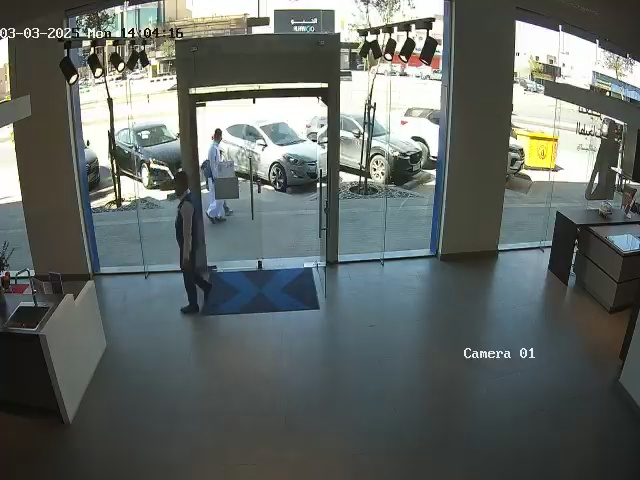employee: (173, 168, 213, 314)
male: (205, 128, 228, 223)
